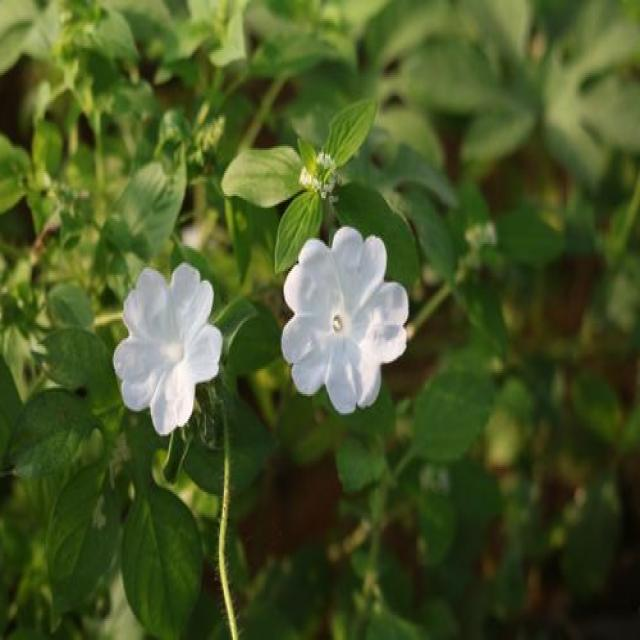ipomoea: (278, 221, 412, 419), (110, 258, 227, 440)
